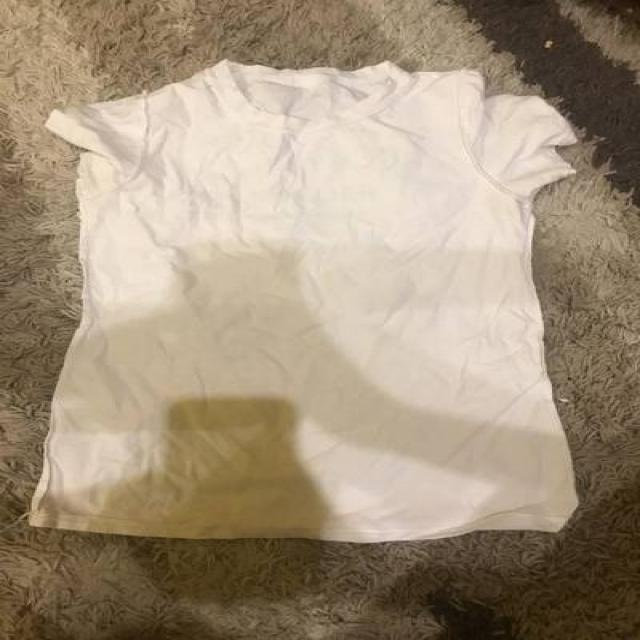Clothes -Biodegradable-: (26, 63, 580, 548)
